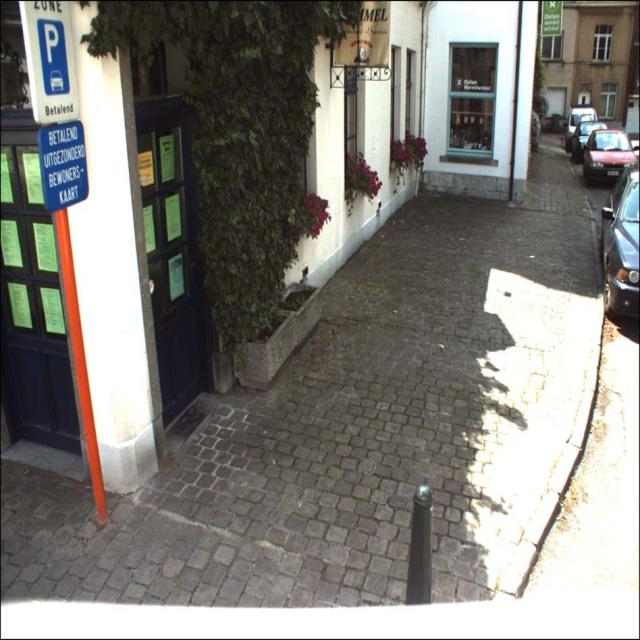park: (38, 19, 67, 66)
